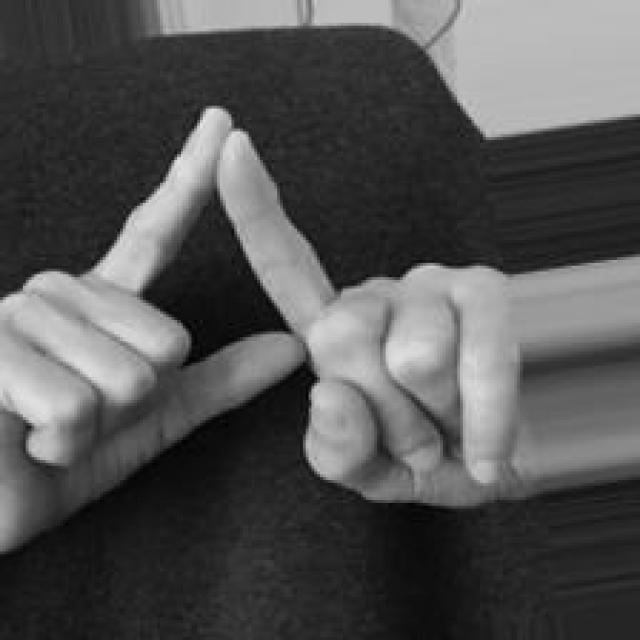D: (0, 104, 517, 559)
